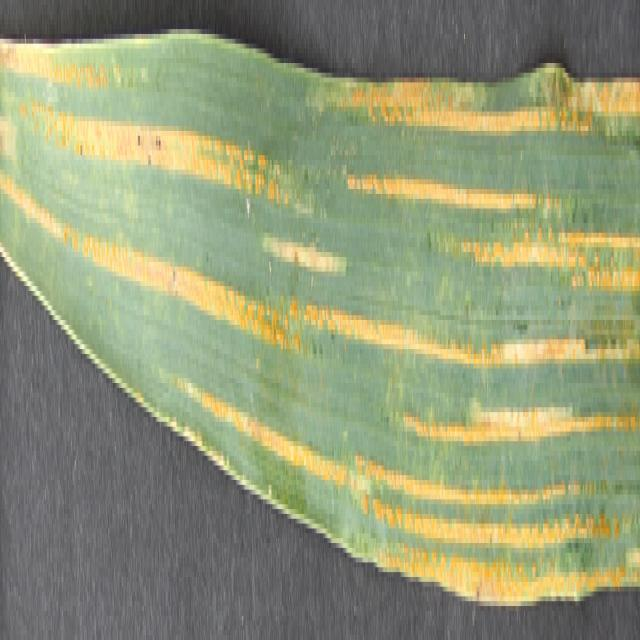leaf rust: (0, 43, 640, 591)
